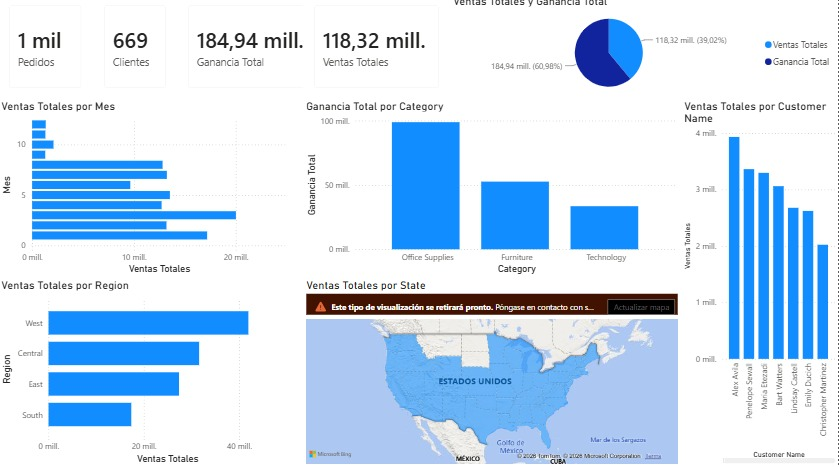

The dashboard page shown, as its layout file describes it:
{"tool":"powerbi","page":{"name":"Página 1","canvas":[1280,720],"ordinal":0},"visuals":[{"type":"cardVisual","fields":{"Data":["Superstore.Pedidos"]},"box":[0,0,144,160],"z":0},{"type":"cardVisual","fields":{"Data":["Superstore.Clientes"]},"box":[144,0,128,160],"z":1000},{"type":"cardVisual","fields":{"Data":["Superstore.Ganancia Total"]},"box":[272,0,224,160],"z":2000},{"type":"cardVisual","fields":{"Data":["Superstore.Ventas Totales"]},"box":[464,0,224,160],"z":3000},{"type":"barChart","fields":{"Category":["Superstore.Mes"],"Y":["Superstore.Ventas Totales"]},"box":[0,160,464,272],"z":4000},{"type":"clusteredBarChart","fields":{"Category":["Superstore.Region"],"Y":["Superstore.Ventas Totales"]},"box":[0,432,464,288],"z":5000},{"type":"clusteredColumnChart","fields":{"Category":["Superstore.Category"],"Y":["Superstore.Ganancia Total"]},"box":[464,160,576,272],"z":6000},{"type":"clusteredColumnChart","fields":{"Category":["Superstore.Customer Name"],"Y":["Superstore.Ventas Totales"]},"box":[1040,160,240,560],"z":7000},{"type":"filledMap","fields":{"Category":["Superstore.State"]},"box":[464,432,576,288],"z":8000},{"type":"pieChart","fields":{"Y":["Superstore.Ventas Totales","Superstore.Ganancia Total"]},"box":[688,0,592,160],"z":9000}]}

Visuals, with their boxes in screenshot pixels (x1, y1, x2, y2), scaled from the page's 1280x720 canvas onto the 839x467 screenshot:
cardVisual - Superstore.Pedidos: (0,0,94,104)
cardVisual - Superstore.Clientes: (94,0,178,104)
cardVisual - Superstore.Ganancia Total: (178,0,325,104)
cardVisual - Superstore.Ventas Totales: (304,0,451,104)
barChart - Superstore.Mes x Superstore.Ventas Totales: (0,104,304,280)
clusteredBarChart - Superstore.Region x Superstore.Ventas Totales: (0,280,304,466)
clusteredColumnChart - Superstore.Category x Superstore.Ganancia Total: (304,104,682,280)
clusteredColumnChart - Superstore.Customer Name x Superstore.Ventas Totales: (682,104,838,466)
filledMap - Superstore.State: (304,280,682,466)
pieChart - Superstore.Ventas Totales x Superstore.Ganancia Total: (451,0,838,104)
